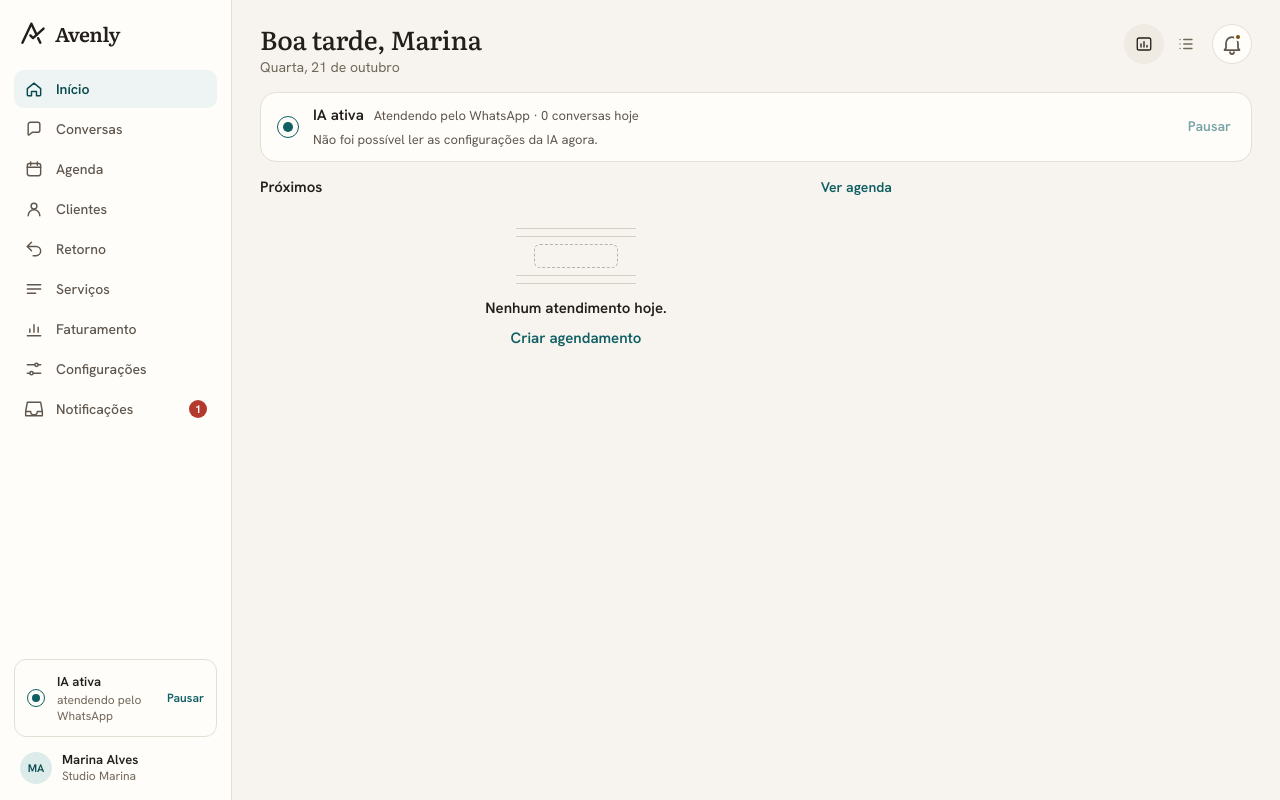
Scenario: §6.9 tablet e desktop: a gaveta › o item 'Notificações' da sidebar abre a mesma gaveta
Check: the heading "Boa tarde, Marina" is shown, box x1=260 y1=24 x2=482 y2=54
Click the link "Notificações 1".
click(116, 409)  # box x1=24 y1=399 x2=207 y2=419
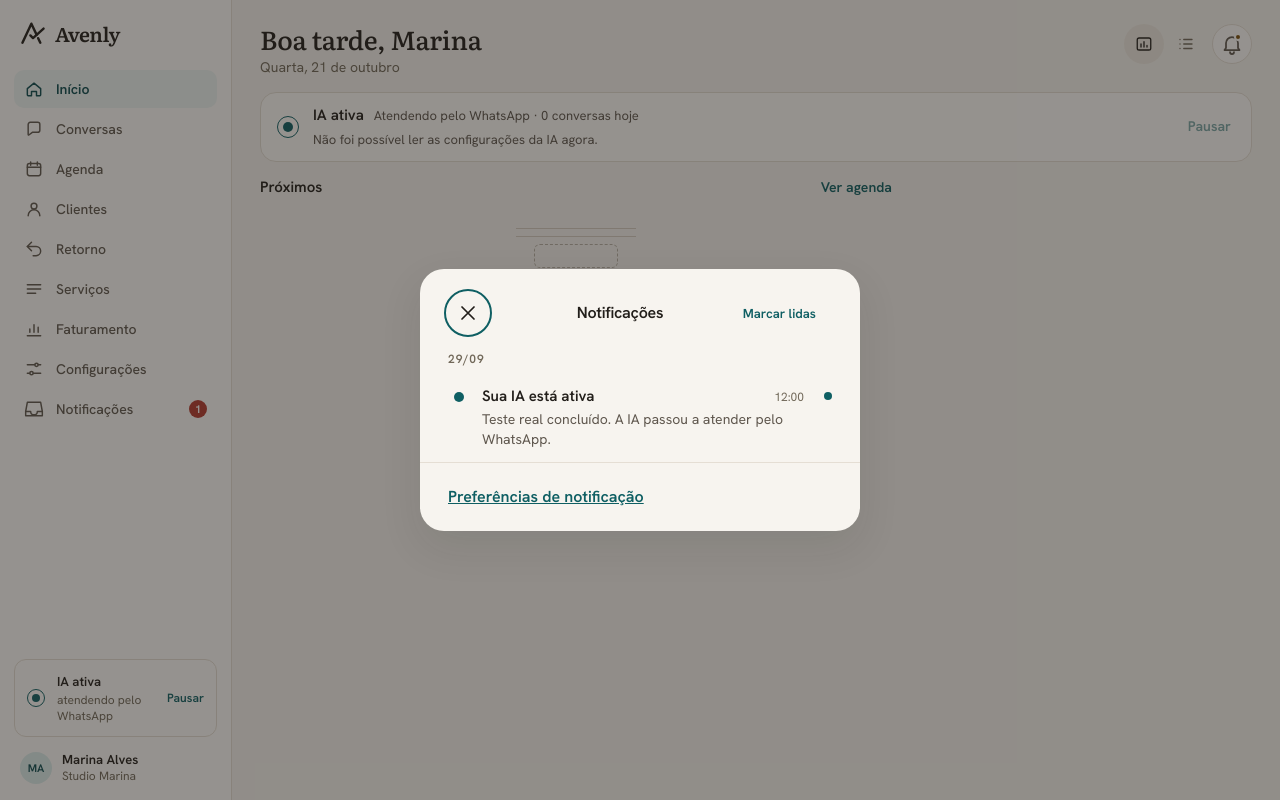
Check: the text "Sua IA está ativa" is shown, box x1=482 y1=385 x2=594 y2=407
Check: the number of dialogs is 1, box x1=420 y1=270 x2=860 y2=531
